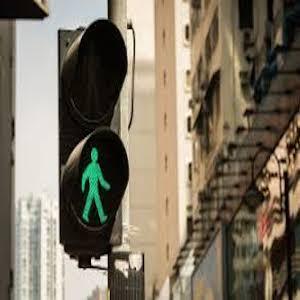green: (77, 147, 116, 229)
